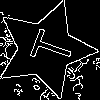T: (20, 24, 76, 69)
